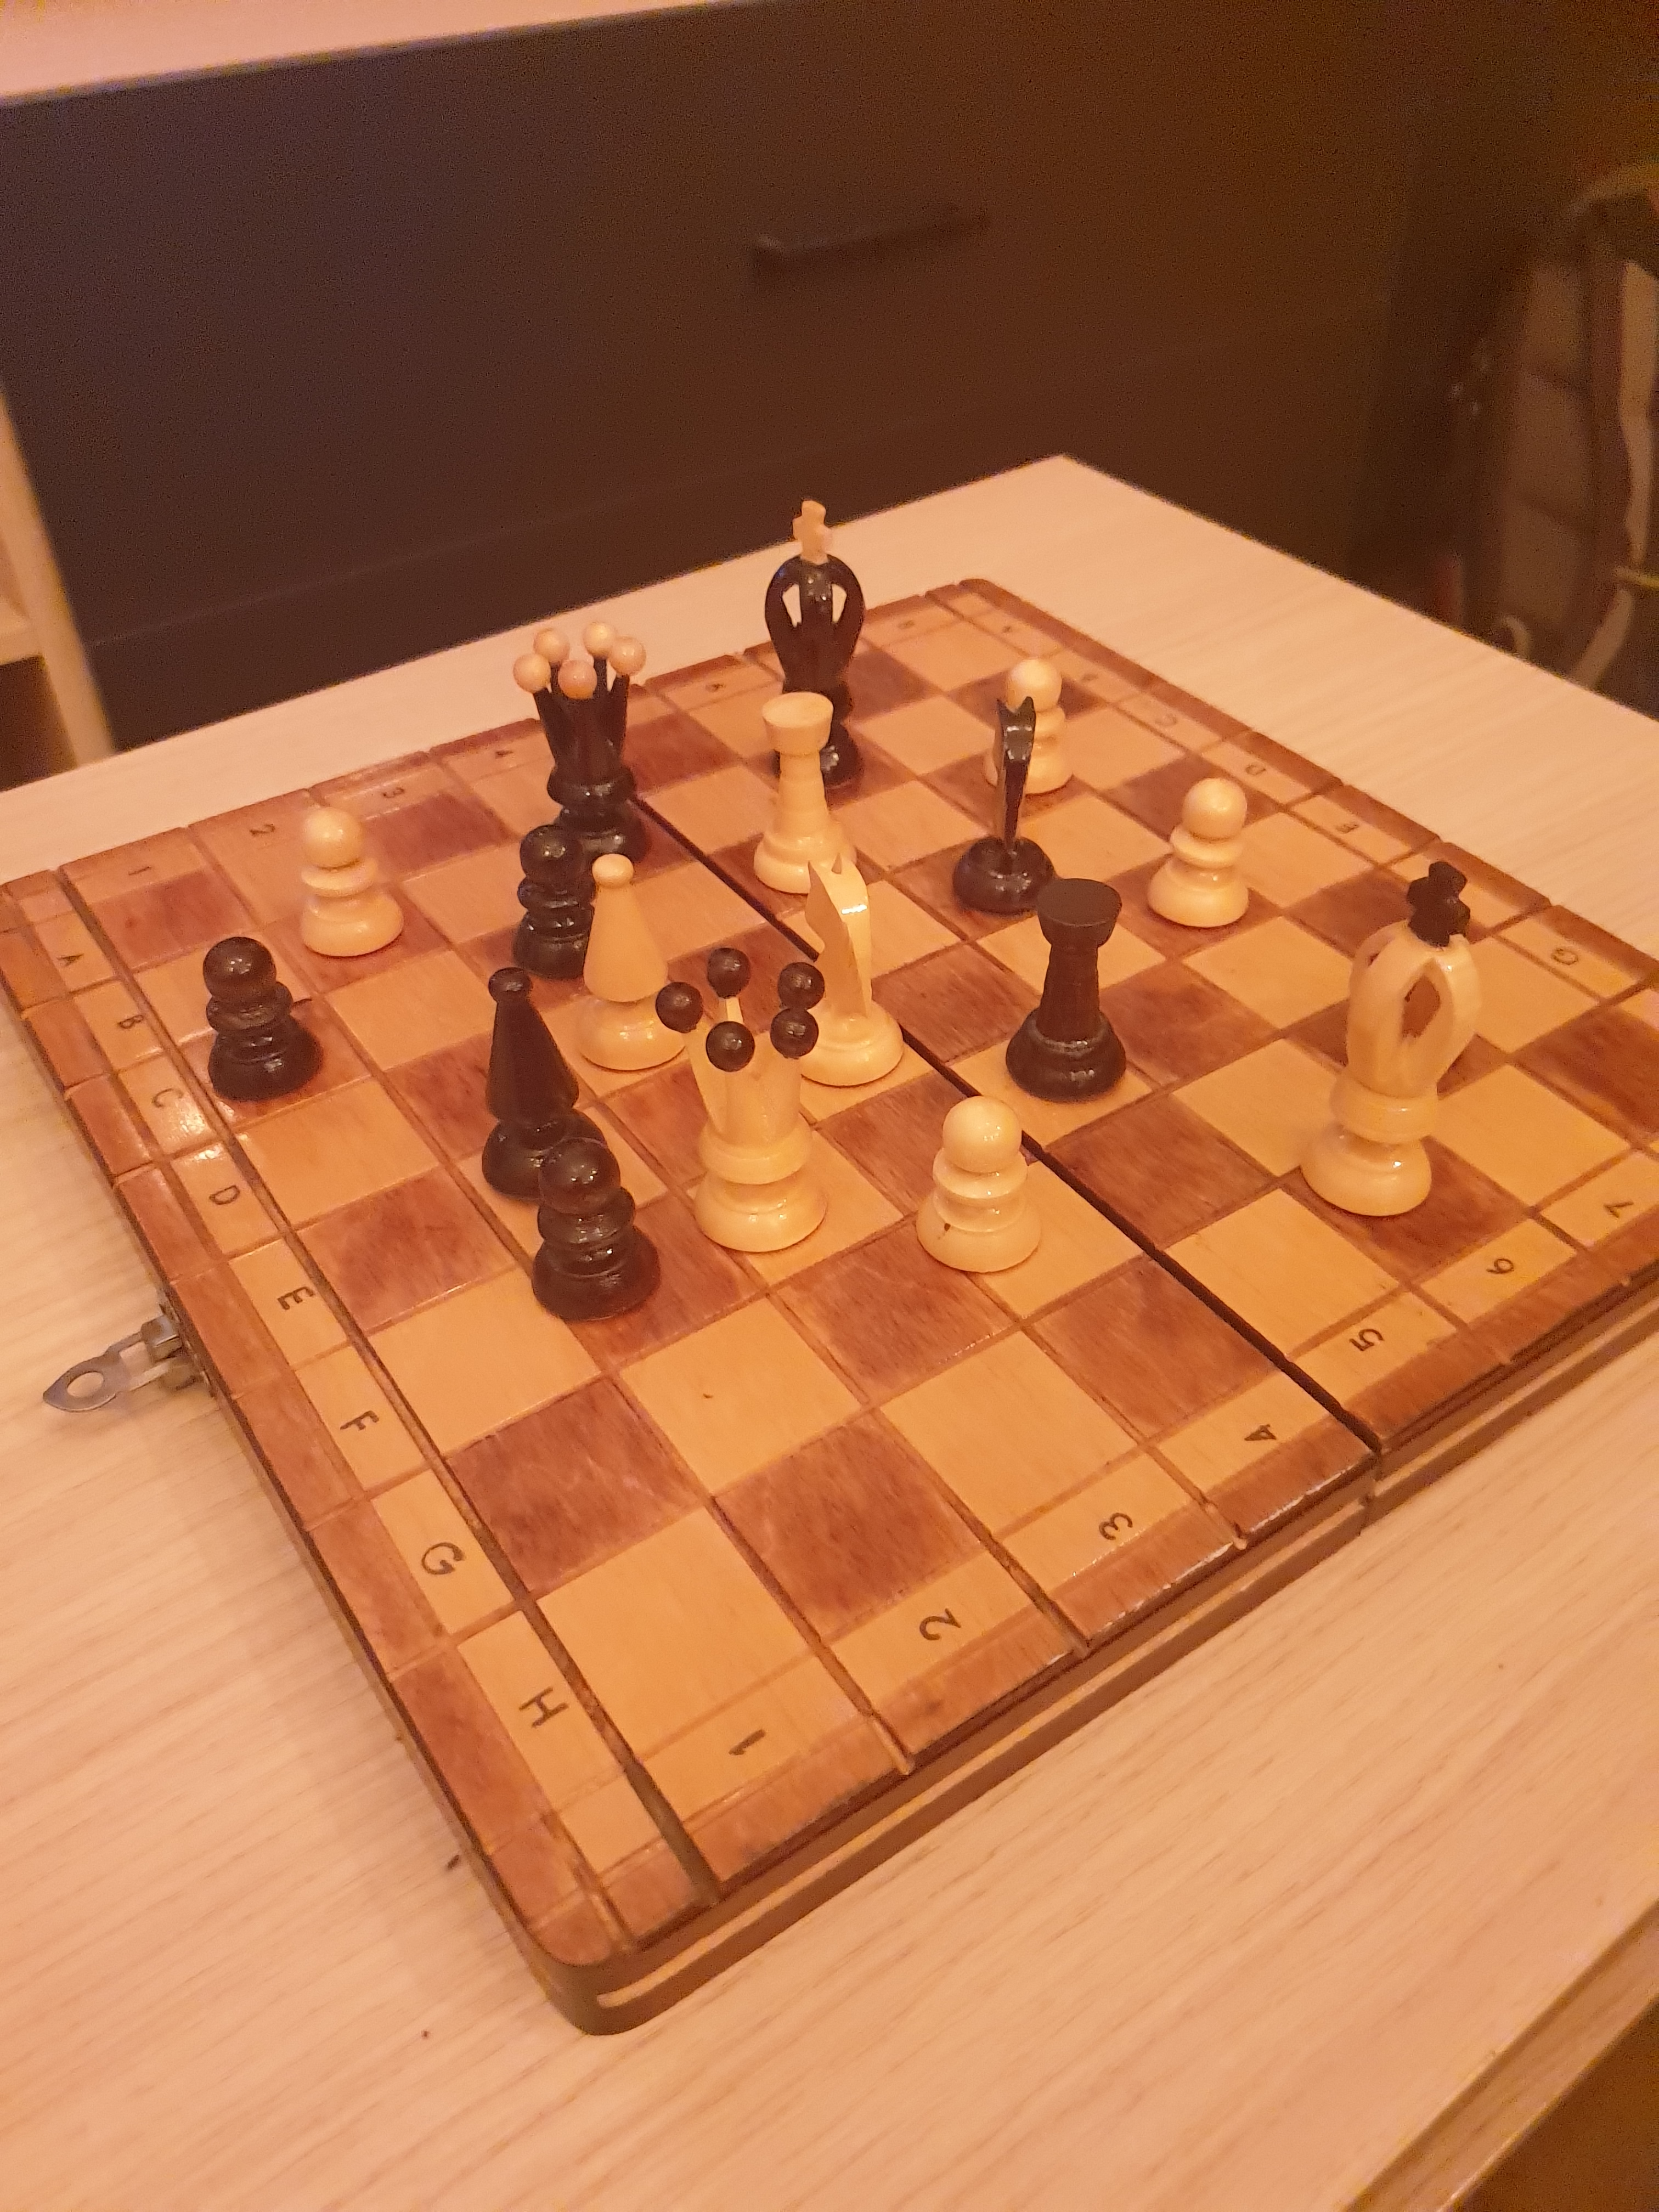bbishop: (462, 961, 631, 1223)
bking: (748, 486, 882, 805)
bknight: (943, 690, 1066, 927)
bpawn: (507, 1129, 669, 1341), (179, 921, 342, 1125), (497, 810, 610, 995)
bqueen: (504, 611, 673, 899)
brook: (997, 867, 1138, 1113)
wbishop: (559, 843, 709, 1087)
wking: (1286, 834, 1507, 1240)
wknight: (770, 846, 917, 1103)
wpawn: (904, 1078, 1047, 1291), (274, 794, 420, 974), (1136, 765, 1270, 944), (974, 648, 1087, 805)
wqueen: (645, 939, 850, 1268)
wrook: (737, 678, 877, 906)
